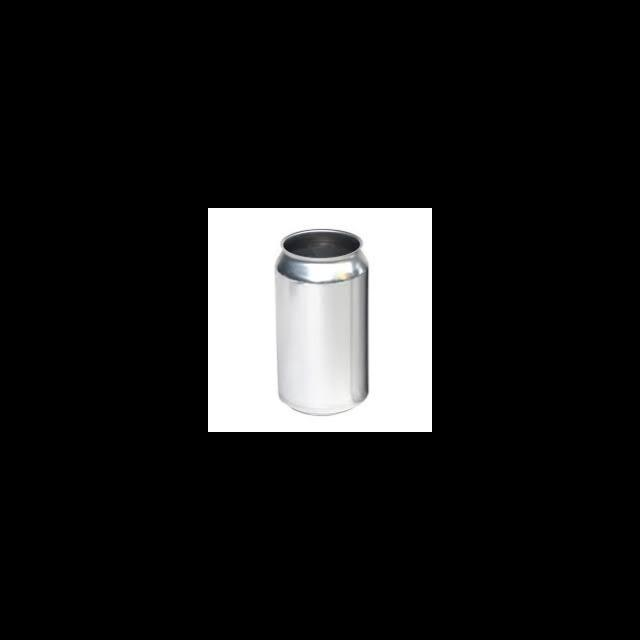metal: (262, 224, 378, 418)
